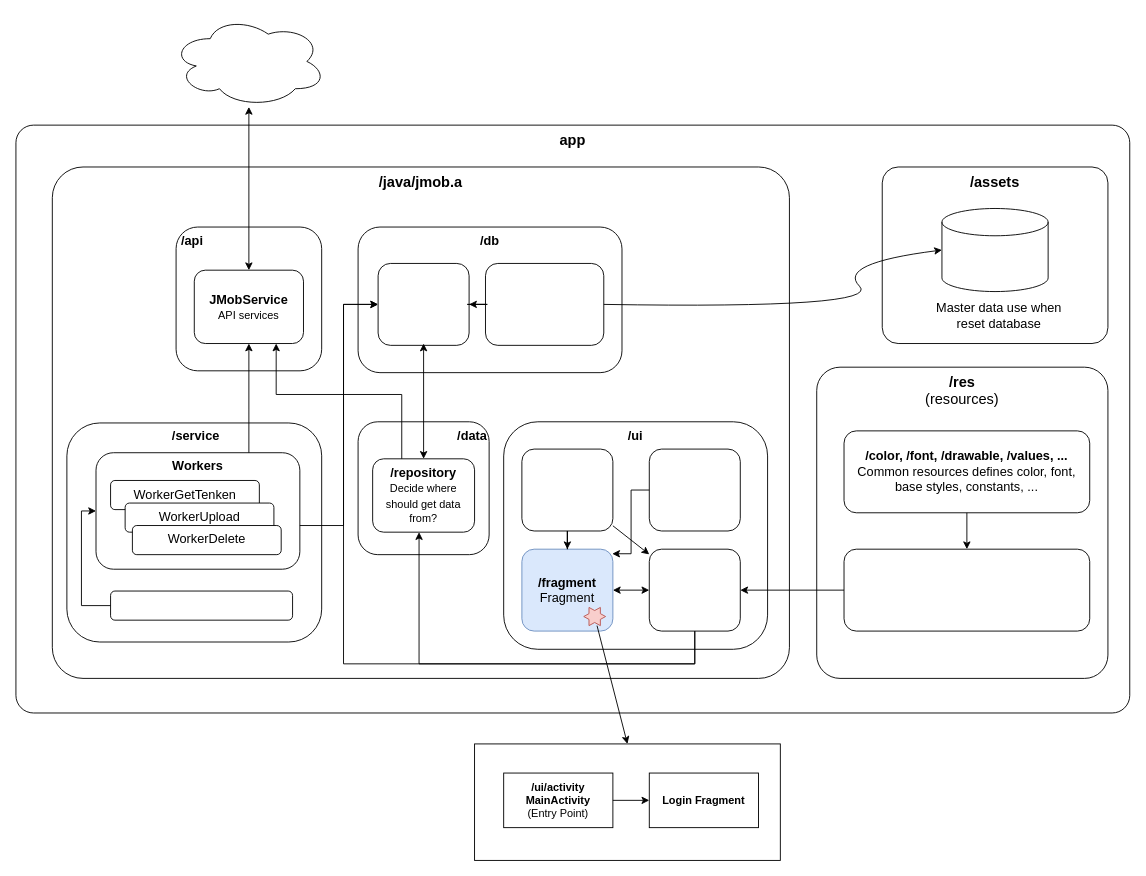
Image size: 1146x876. Some labels were removed from this diagram. Each missing label, with the centre of its shape:
/adapter Adapter for dynamic data component: (x=694, y=489)
/controller Navigation between fragment: (x=567, y=489)
/dao Data Access Object: (x=423, y=304)
/entity Entity classes for mapping table: (x=544, y=304)
/layout Contain all screen layouts: (x=966, y=589)
/viewmodel Binding data with layout: (x=694, y=589)
jmob.db: (x=994, y=250)
JMobPeriodicService: (x=201, y=605)
Server: (x=248, y=61)
